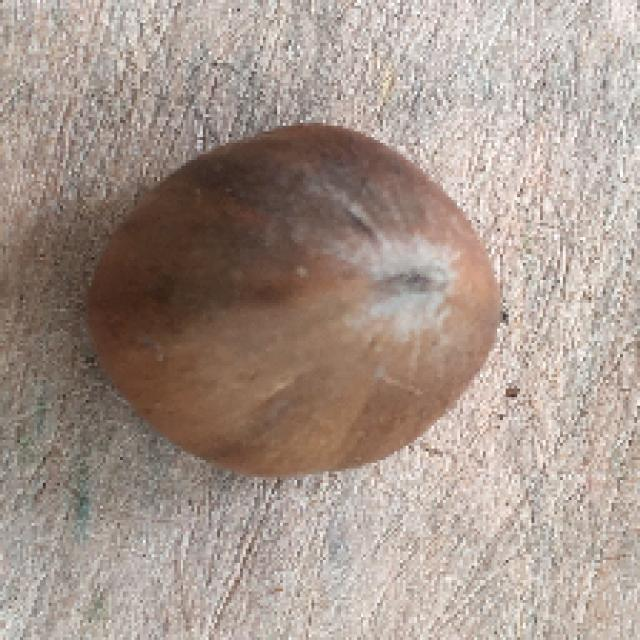qualityHazelnut: (84, 121, 512, 476)
